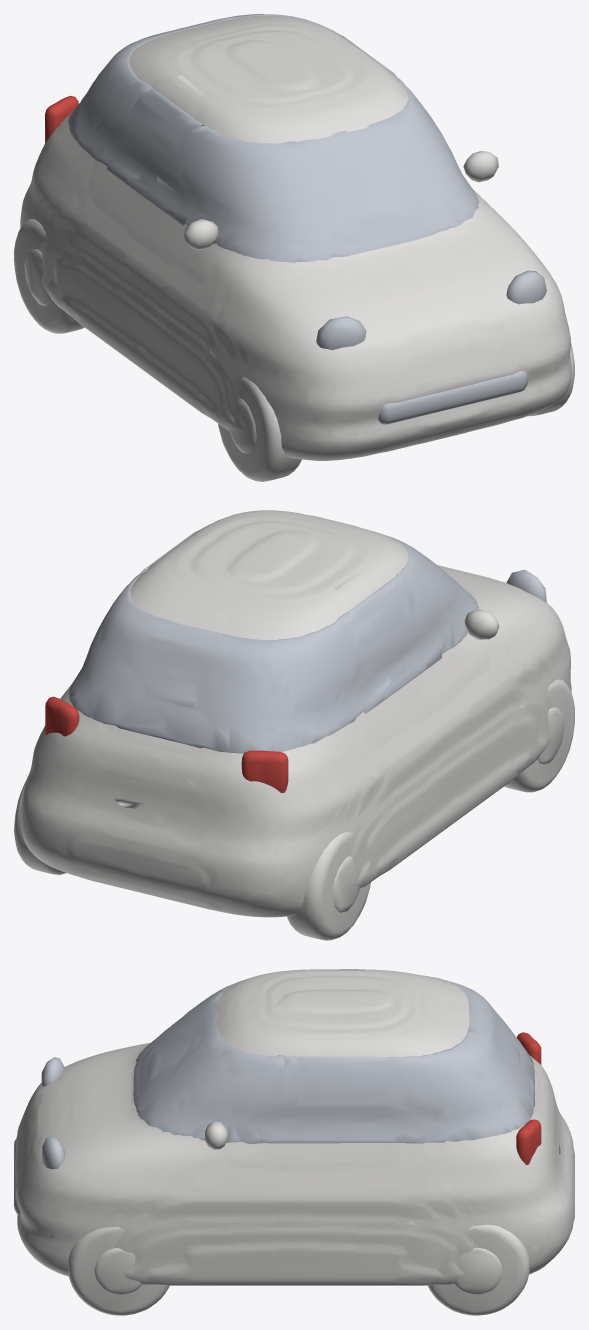
File: car.glb
3 renders of one model, top to bottom at view 1: azimuth 30°, elevation 25°; view 2: azimuth 150°, elevation 25°; view 3: azimuth 270°, elevation 25°, orthographic. The views are drawn at different scales.
Parts seen in each view (by area): view 1: car_clay, car_glass, car_clay.003, car_glass.002, car_glass.001, car_clay.001, car_clay.002, car_tail; view 2: car_clay, car_glass, car_clay.003, car_tail, car_clay.001, car_clay.002, car_glass.001; view 3: car_clay, car_glass, car_clay.003, car_clay.001, car_tail, car_glass.001, car_clay.002.
Boxes of the visible parts, x1,y1,x2,y2 form: car_clay: [20, 15, 571, 460]; car_glass: [68, 14, 479, 262]; car_clay.003: [14, 219, 574, 481]; car_glass.002: [378, 371, 528, 424]; car_glass.001: [316, 270, 546, 350]; car_clay.001: [24, 249, 256, 453]; car_clay.002: [183, 151, 498, 250]; car_tail: [45, 95, 78, 143]; car_clay: [20, 510, 571, 917]; car_glass: [69, 525, 478, 753]; car_clay.003: [14, 679, 574, 940]; car_tail: [45, 696, 288, 792]; car_clay.001: [332, 707, 564, 912]; car_clay.002: [464, 609, 499, 639]; car_glass.001: [506, 570, 546, 602]; car_clay: [15, 969, 574, 1285]; car_glass: [133, 975, 535, 1143]; car_clay.003: [68, 1224, 529, 1315]; car_clay.001: [94, 1247, 502, 1294]; car_tail: [516, 1032, 541, 1164]; car_glass.001: [41, 1057, 65, 1169]; car_clay.002: [205, 1122, 228, 1149].
Size of the model in its own units: 1.72 by 1.5 by 3.
